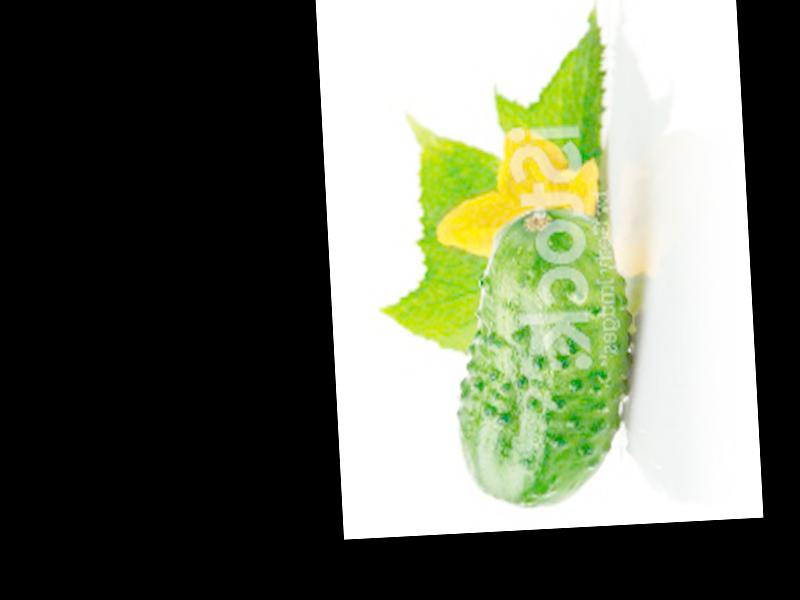Cucumber: (447, 209, 638, 511)
